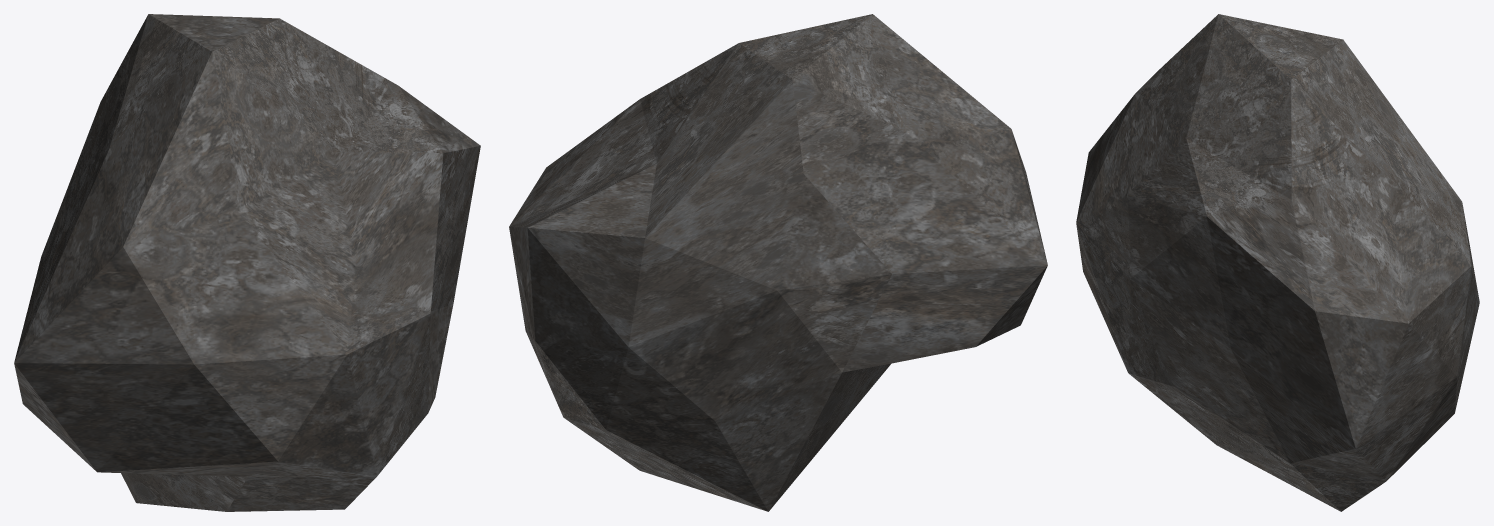
File: Asteroid_01_LOD2.FBX
3 views of the same model, side by side, from view 1: azimuth 30°, elevation 25°; view 2: azimuth 150°, elevation 25°; view 3: azimuth 270°, elevation 25° (orthographic). The views are drawn at different scales.
Visible parts, largest first — view 1: Asteriod_01_LOD2; view 2: Asteriod_01_LOD2; view 3: Asteriod_01_LOD2.
Part boxes in pixels (left/top/right/bottom): Asteriod_01_LOD2: left=14, top=14, right=480, bottom=511; Asteriod_01_LOD2: left=509, top=14, right=1047, bottom=511; Asteriod_01_LOD2: left=1076, top=14, right=1479, bottom=511.
Bounding box in the file's own units: 740 × 714 × 620.
1 material, 1 textured.
